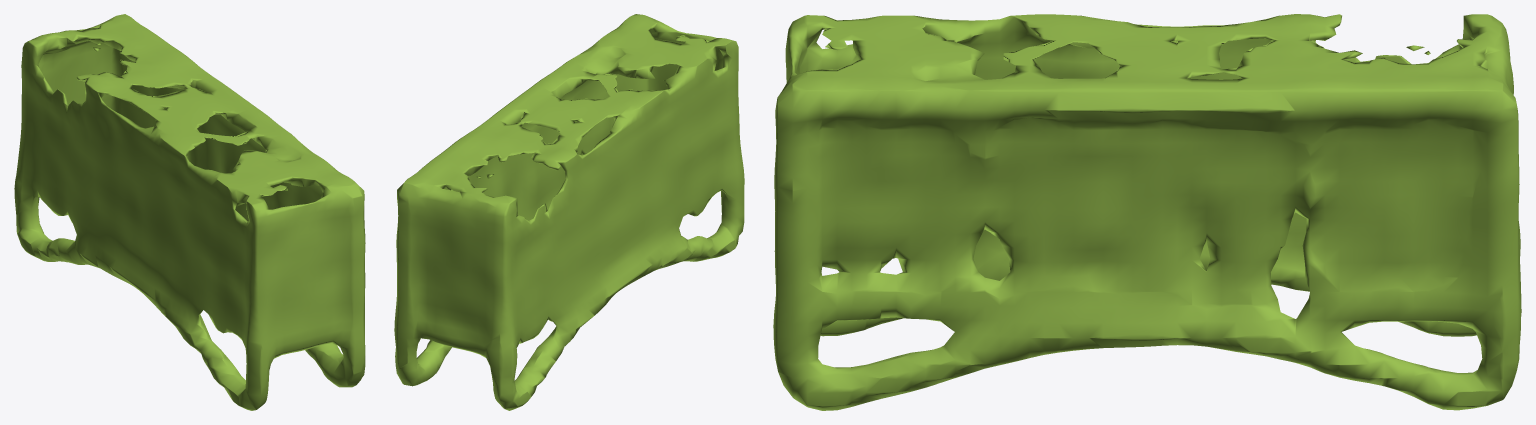
The model's file is cabinet_3_2.obj.
3 views of the same model, side by side, from view 1: azimuth 30°, elevation 25°; view 2: azimuth 150°, elevation 25°; view 3: azimuth 270°, elevation 25° (orthographic). The views are drawn at different scales.
Size of the model in its own units: 0.2247 by 0.379 by 0.7907.
